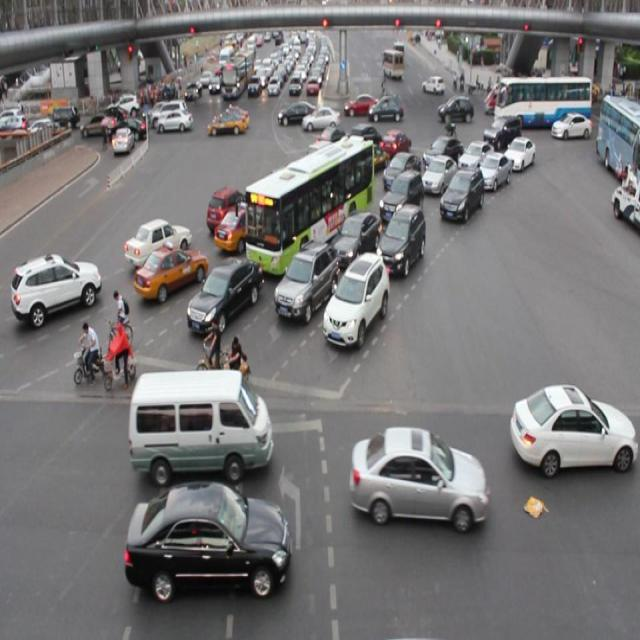BigCar: (243, 134, 376, 268), (496, 76, 595, 124)
car: (128, 473, 292, 624), (347, 426, 486, 560), (127, 368, 275, 482), (505, 396, 640, 485), (0, 247, 107, 329), (330, 254, 390, 356), (182, 251, 251, 336), (274, 240, 332, 336), (379, 200, 426, 286), (448, 153, 482, 245), (144, 248, 196, 298), (155, 102, 194, 163), (208, 106, 251, 150), (557, 112, 598, 156)
